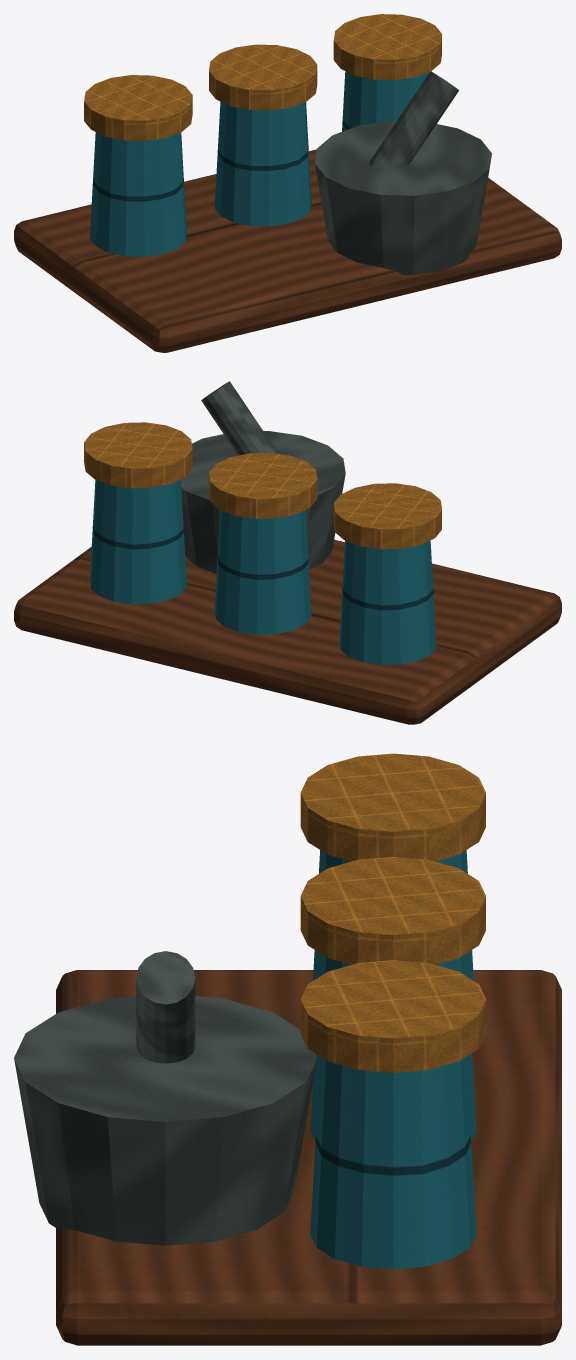
The model's file is medicine_tray.glb.
3 renders of one model, top to bottom at view 1: azimuth 30°, elevation 25°; view 2: azimuth 150°, elevation 25°; view 3: azimuth 270°, elevation 25°, orthographic. The views are drawn at different scales.
Parts seen in each view (by area): view 1: medicine_tray_Walnut, medicine_tray_Ceramic, medicine_tray_Stone, medicine_tray_Brass; view 2: medicine_tray_Walnut, medicine_tray_Ceramic, medicine_tray_Brass, medicine_tray_Stone; view 3: medicine_tray_Walnut, medicine_tray_Stone, medicine_tray_Brass, medicine_tray_Ceramic.
Boxes of the visible parts, left/top/right/bottom form: medicine_tray_Walnut: left=14, top=149, right=561, bottom=352; medicine_tray_Ceramic: left=90, top=71, right=429, bottom=256; medicine_tray_Stone: left=314, top=71, right=491, bottom=274; medicine_tray_Brass: left=84, top=14, right=441, bottom=140; medicine_tray_Walnut: left=14, top=539, right=561, bottom=724; medicine_tray_Ceramic: left=90, top=479, right=436, bottom=665; medicine_tray_Brass: left=84, top=422, right=441, bottom=549; medicine_tray_Stone: left=181, top=381, right=345, bottom=573; medicine_tray_Walnut: left=56, top=970, right=561, bottom=1345; medicine_tray_Stone: left=14, top=951, right=317, bottom=1245; medicine_tray_Brass: left=300, top=753, right=485, bottom=1072; medicine_tray_Ceramic: left=310, top=850, right=476, bottom=1269.
Bounding box in the file's own units: 0.95 × 0.4173 × 0.65.
Materials: 4 (4 with a texture image).
